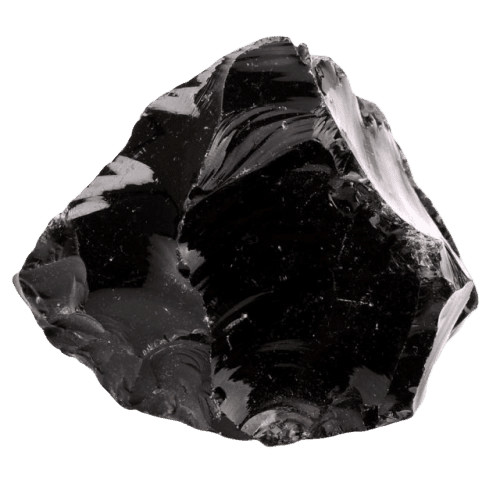Obsidian: (9, 33, 481, 449)
